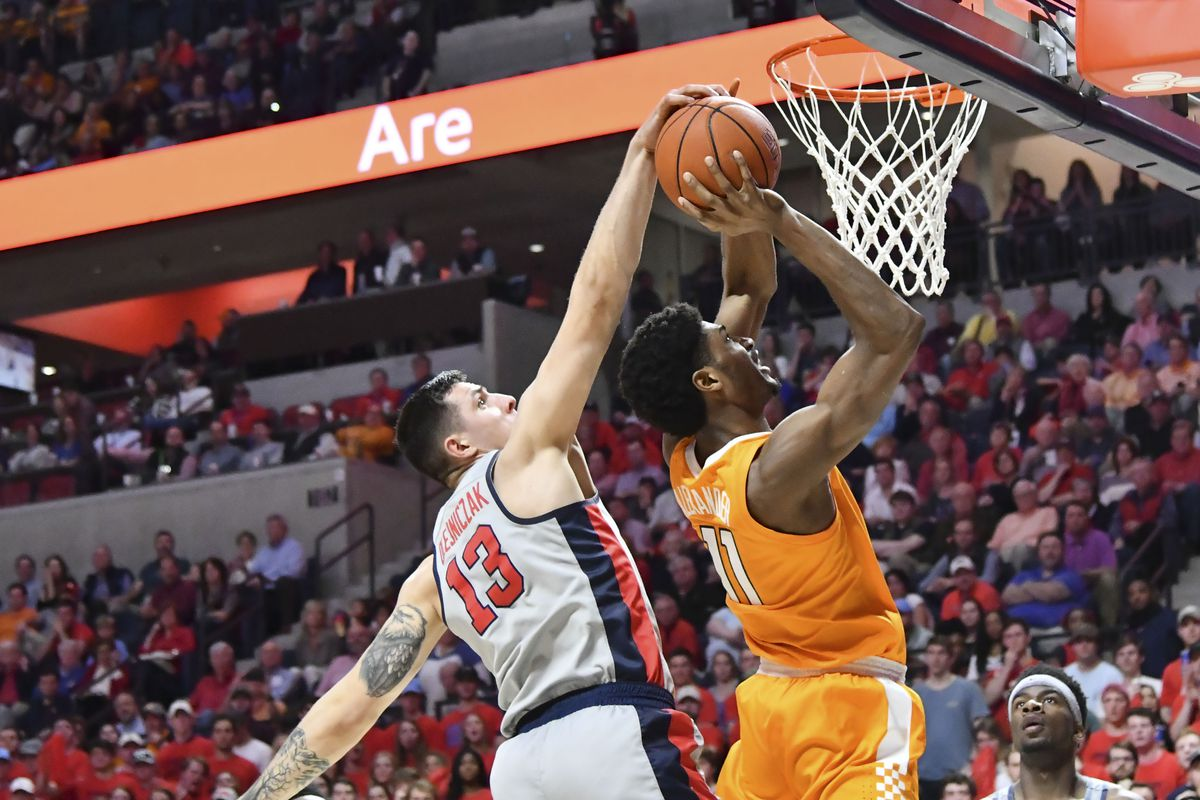ball: (644, 86, 802, 243)
basket: (755, 15, 999, 302)
block: (236, 70, 774, 800)
shoot: (644, 82, 973, 800)
